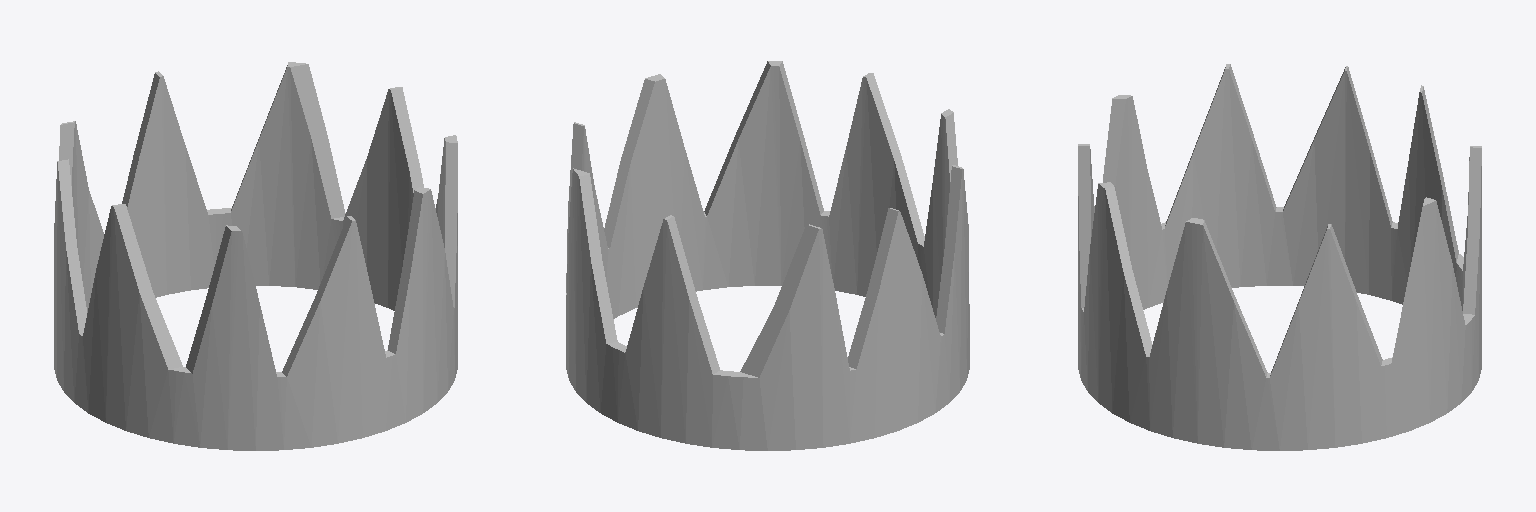
The model's file is phat.obj.
3 renders of one model, left to right at view 1: azimuth 30°, elevation 25°; view 2: azimuth 150°, elevation 25°; view 3: azimuth 270°, elevation 25°, orthographic.
Visible parts, largest first — view 1: Phat; view 2: Phat; view 3: Phat.
Boxes of the visible parts, box(x1,y1,x2,y2) form: Phat: box(54, 62, 457, 450); Phat: box(566, 61, 969, 450); Phat: box(1078, 64, 1481, 450).
Bounding box in the file's own units: 15.32 × 9.19 × 15.32.